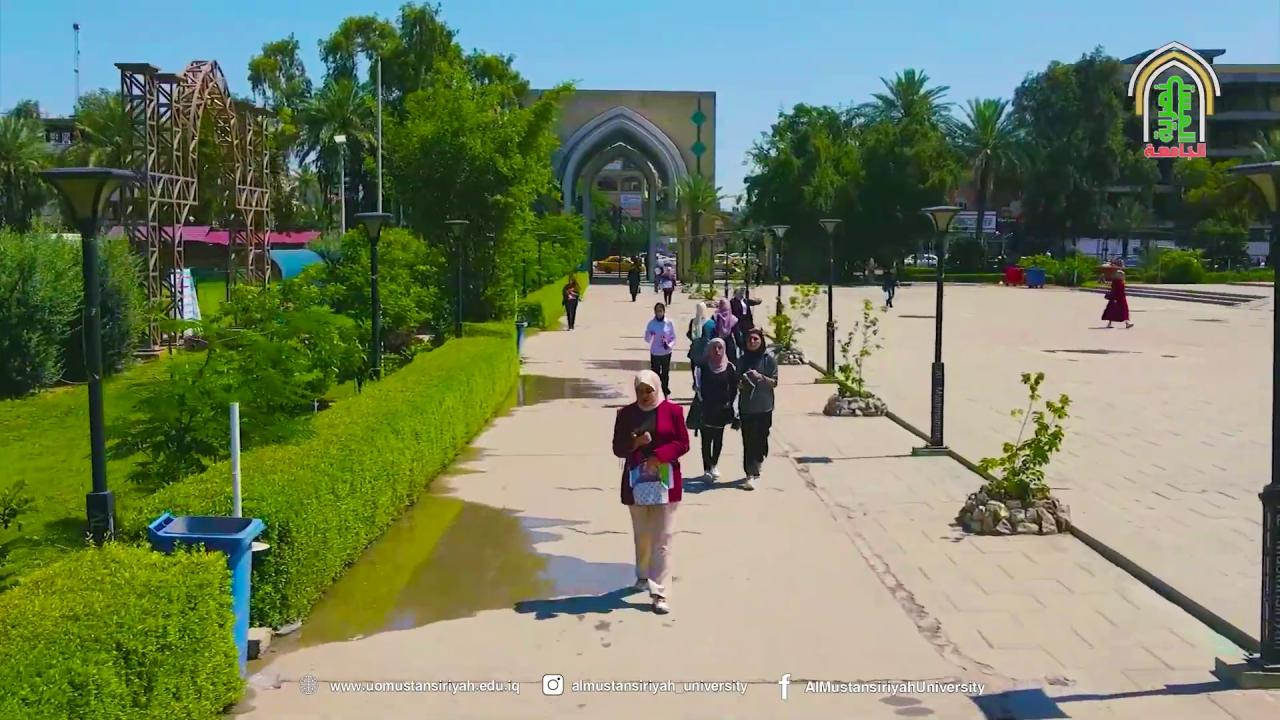car: (713, 251, 760, 275), (596, 255, 645, 275), (713, 250, 759, 263), (903, 252, 938, 267), (1104, 255, 1140, 269)
person: (611, 370, 690, 614), (733, 327, 778, 490), (688, 337, 739, 480), (643, 302, 676, 400), (730, 286, 761, 355), (1102, 267, 1134, 328), (561, 274, 580, 331), (882, 268, 899, 309), (658, 264, 675, 305), (627, 258, 641, 302)
tree: (246, 1, 582, 337), (737, 44, 1162, 280), (103, 266, 367, 486), (382, 50, 575, 333), (1007, 45, 1131, 265), (0, 223, 146, 396), (740, 101, 865, 284), (850, 67, 960, 268), (954, 369, 1072, 536), (326, 13, 401, 216), (245, 31, 314, 231), (295, 74, 377, 236), (484, 200, 589, 320), (944, 94, 1022, 245), (1173, 154, 1252, 269), (0, 108, 55, 232), (670, 170, 725, 283), (835, 297, 884, 400), (1102, 197, 1147, 262)
